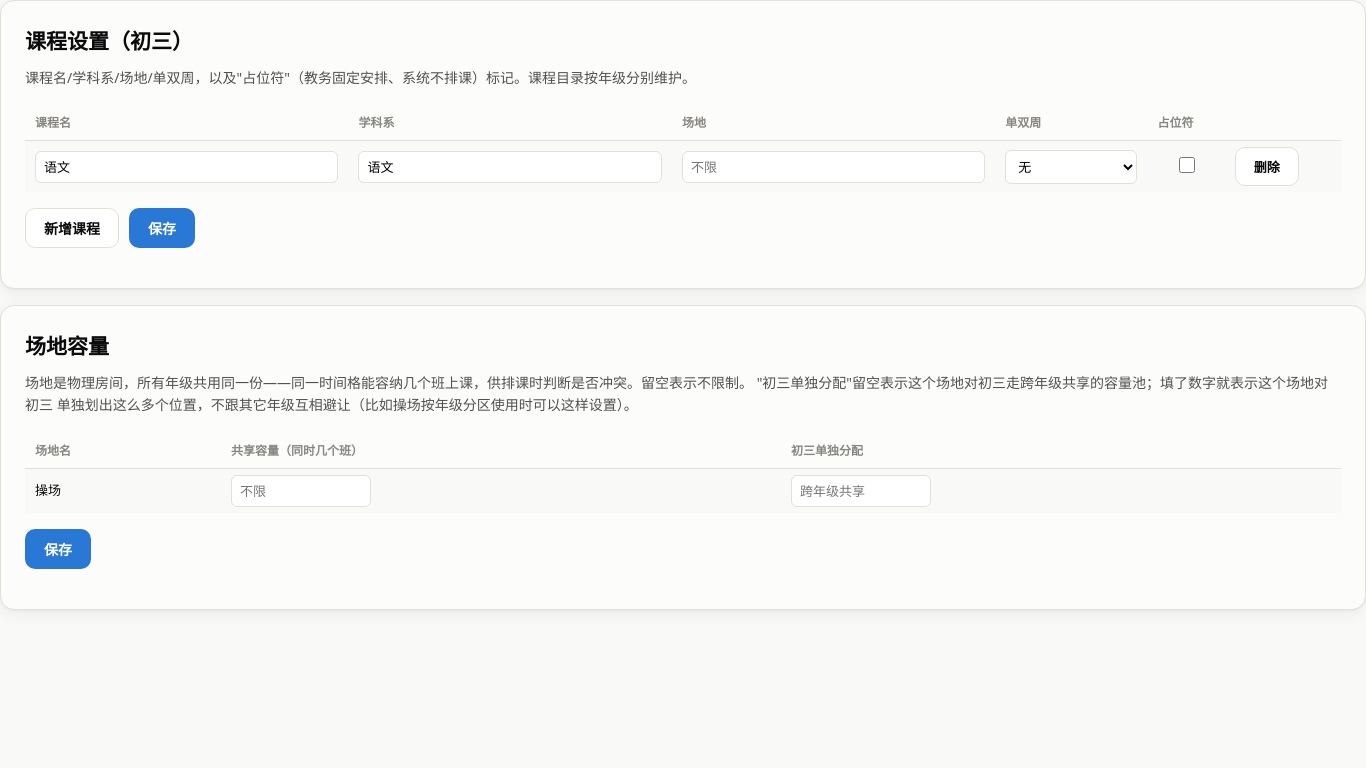
it: CourseSettings › adds a blank row and saves the full list including it
Click the button with test id "add-course-button". click: click(72, 228)
box: [25, 208, 119, 248]
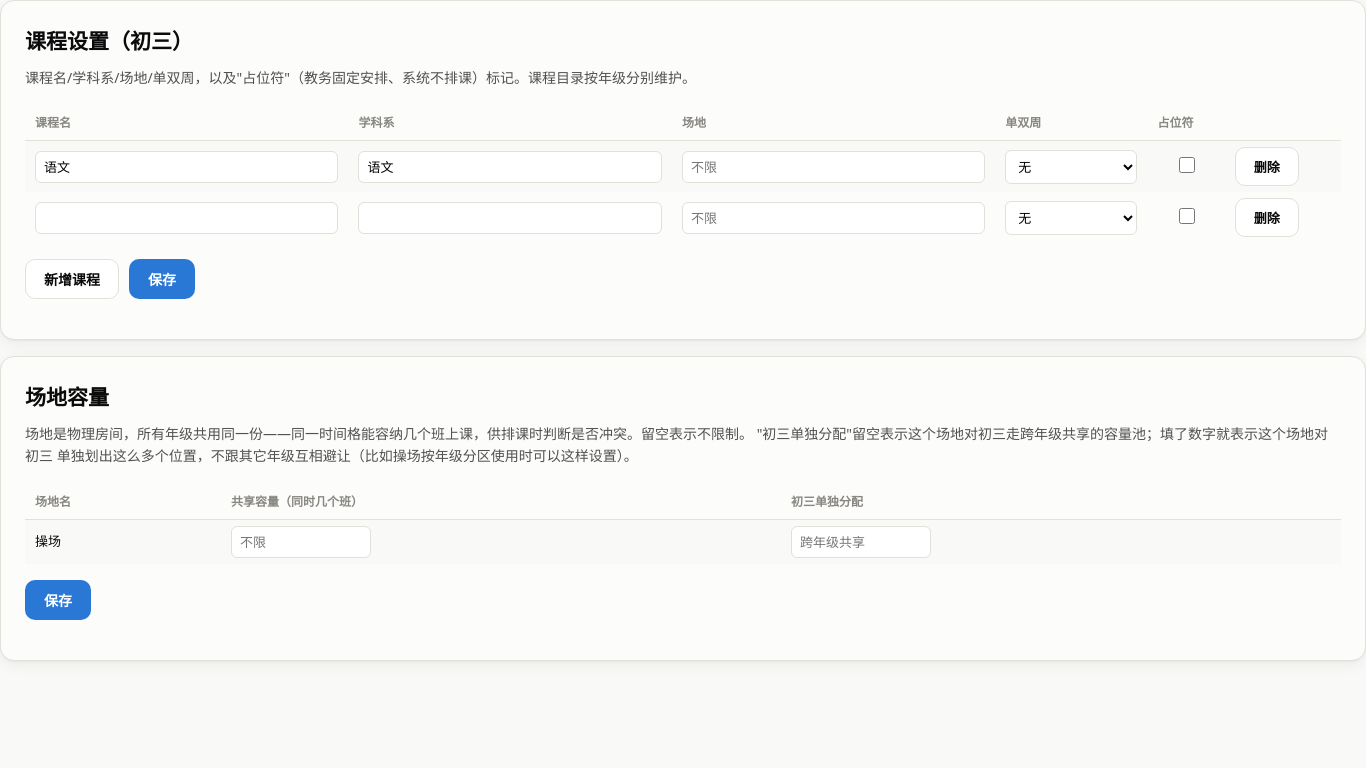
Type "班会" into the 2nd field with test id "course-name". click: (187, 218)
box: [35, 202, 338, 234]
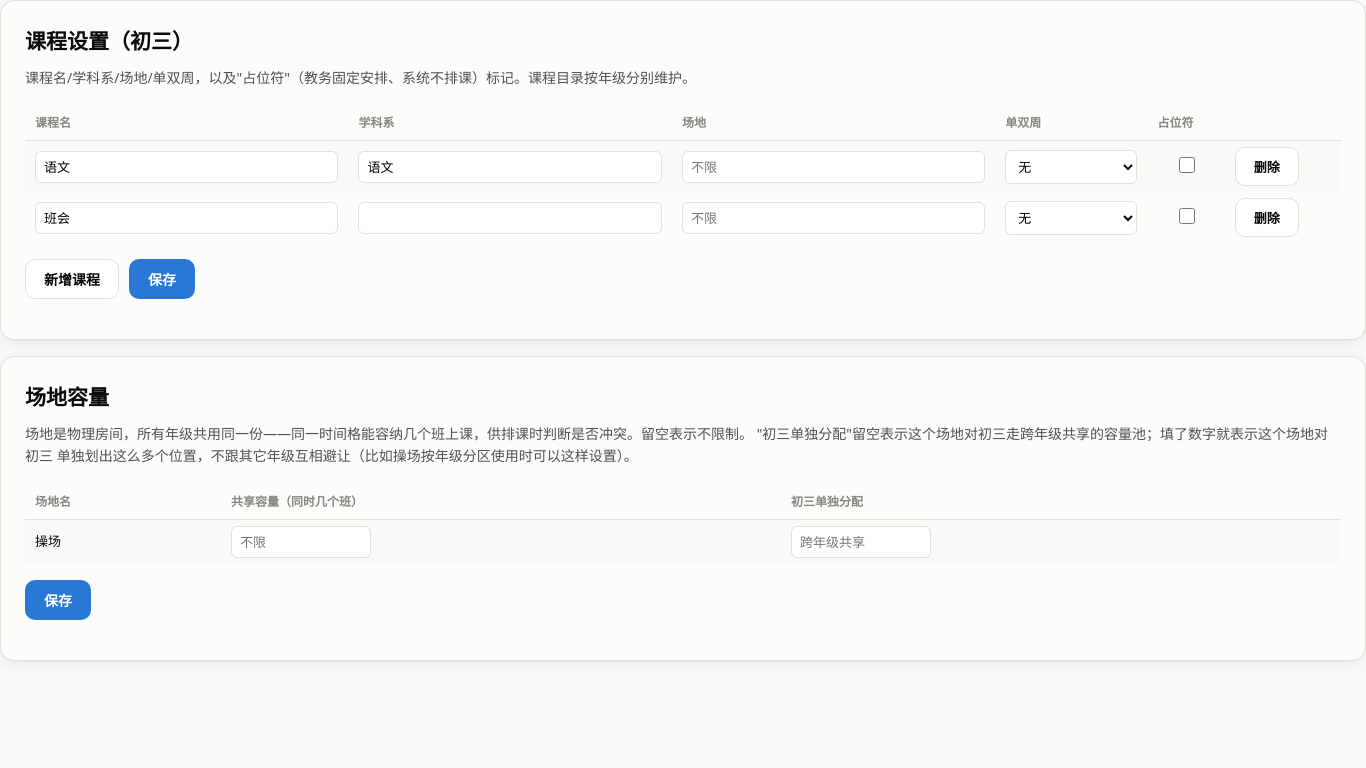
Type "班会" into the 2nd field with test id "course-family". click: (510, 218)
box: [358, 202, 662, 234]
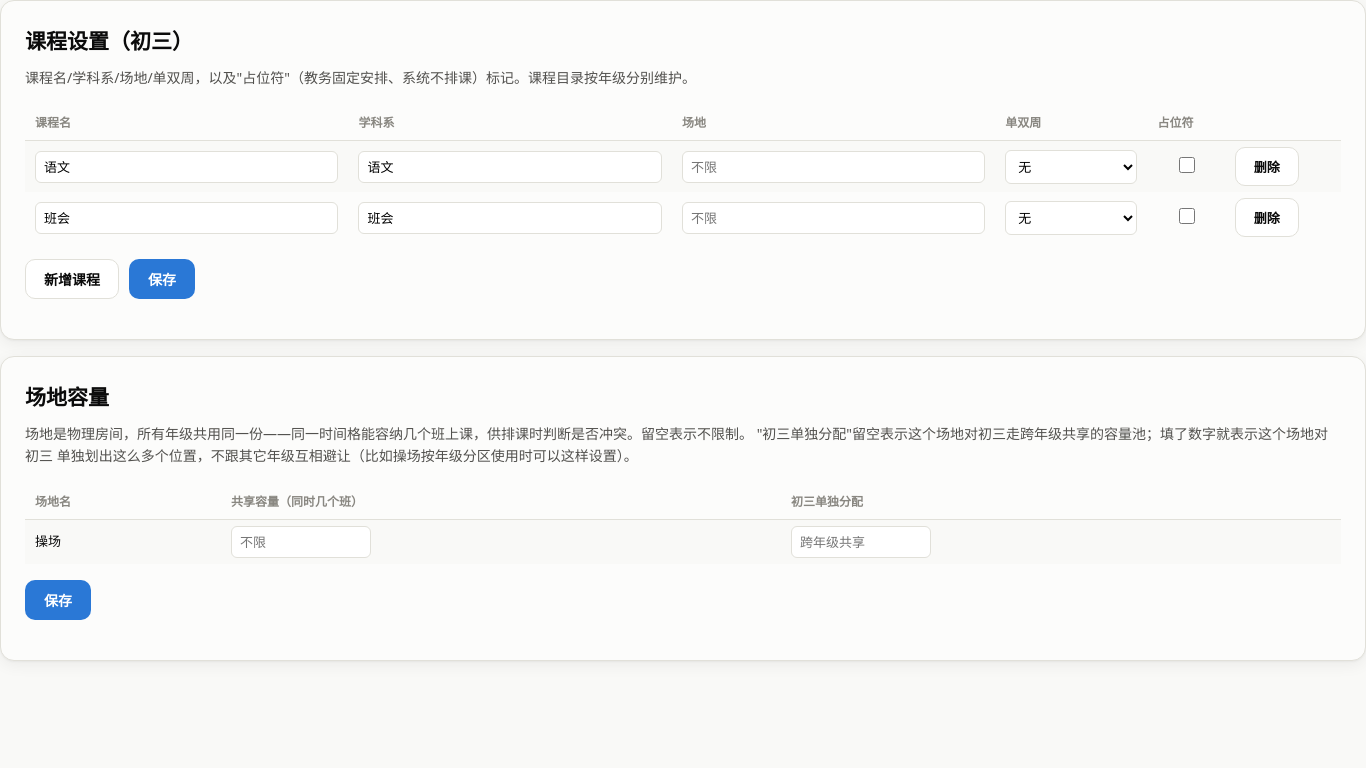
Click the 2nd checkbox with test id "course-external". click: click(1187, 216)
box: [1179, 208, 1195, 224]
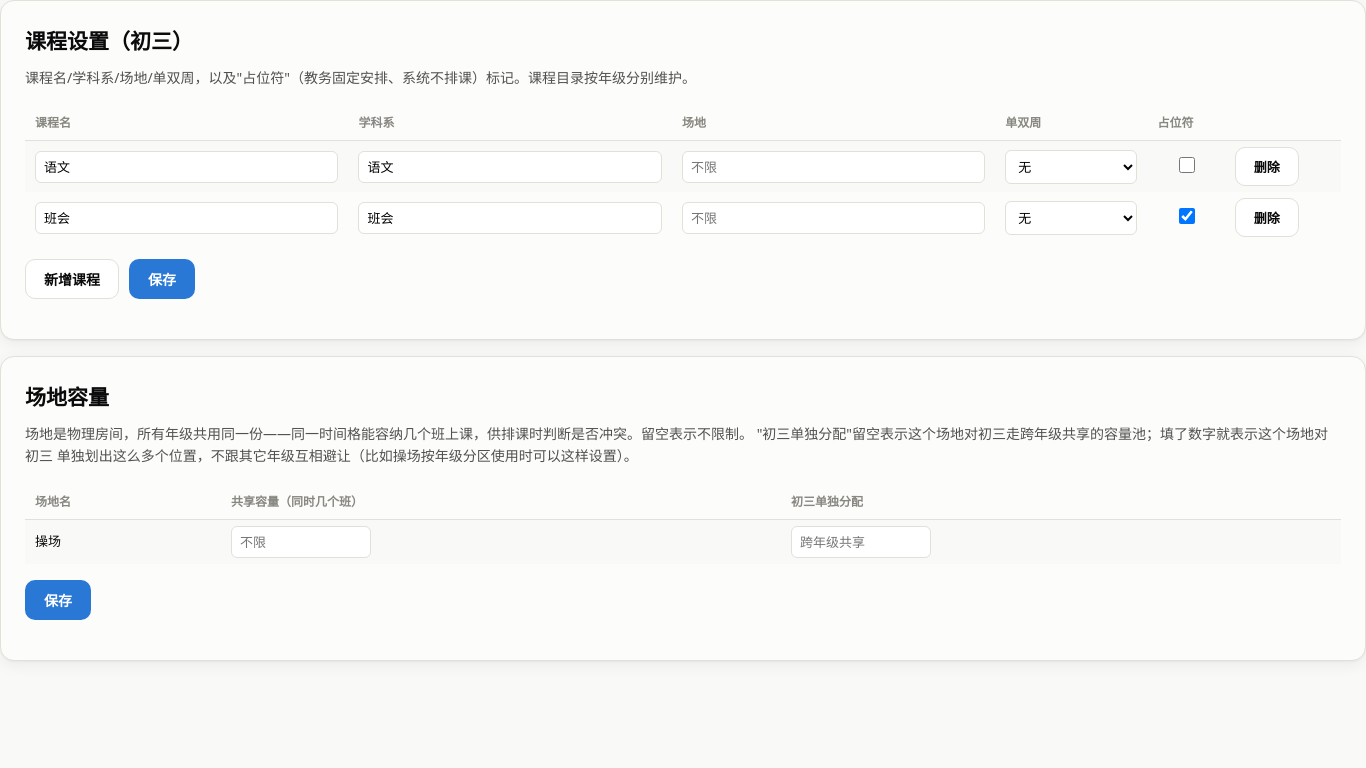
Click the button with test id "save-courses-button". click: click(162, 279)
box: [129, 259, 195, 299]
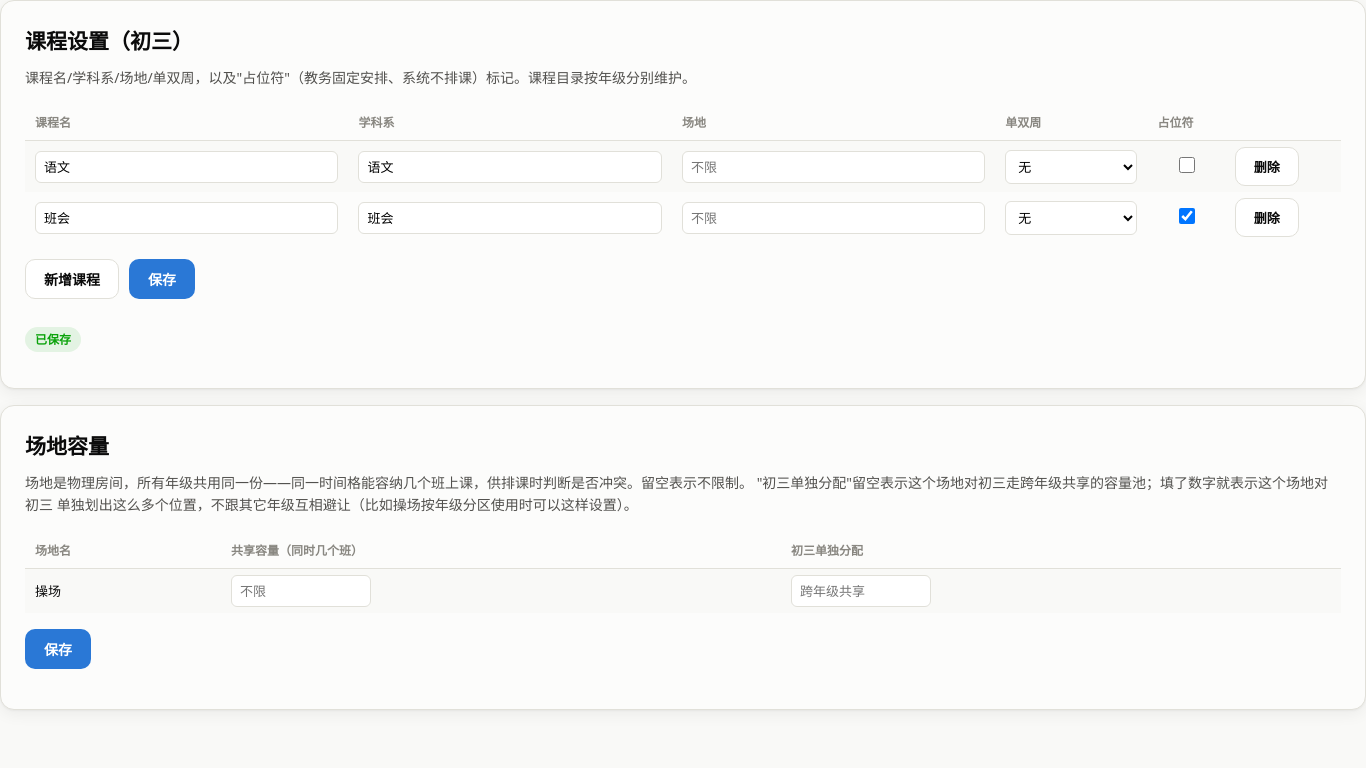
Result: the text "已保存" is shown at [25, 327, 81, 352]
